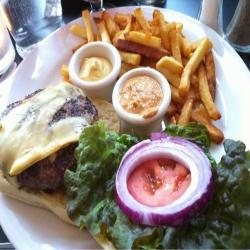burger: (2, 85, 107, 227)
fries: (107, 16, 205, 81)
salad: (88, 139, 247, 244)
